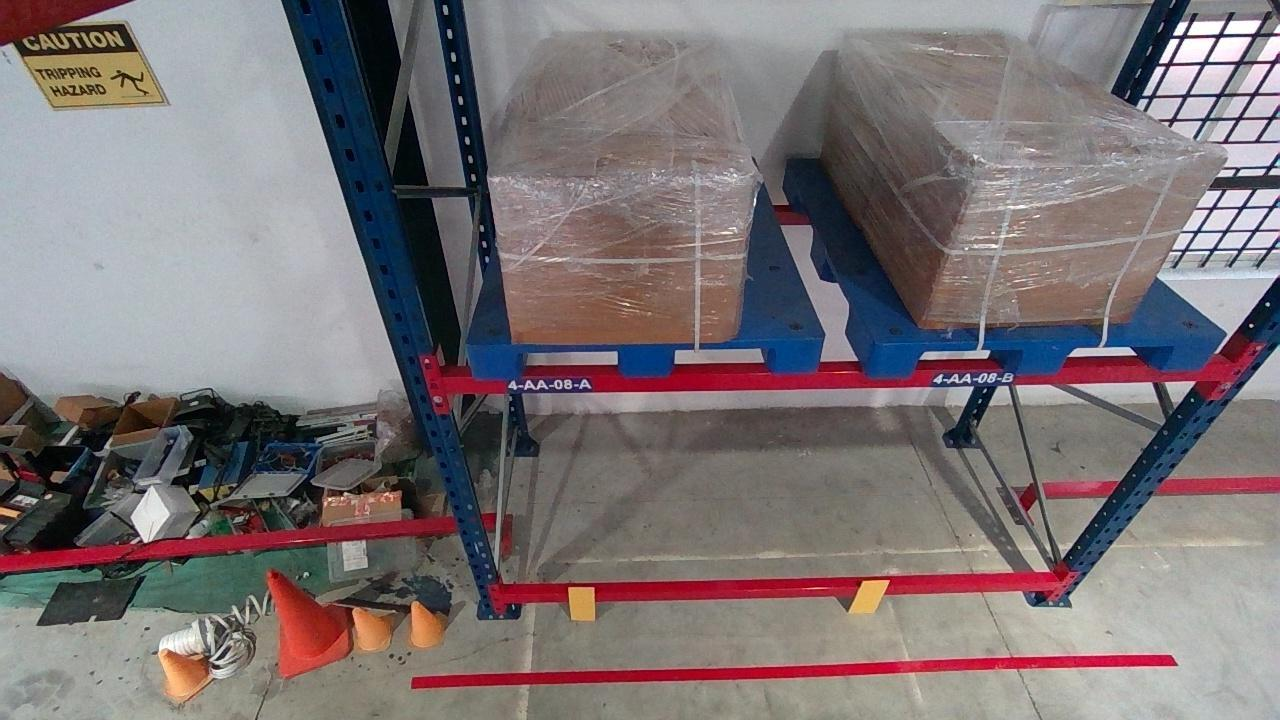h_rack: (444, 362, 1231, 390), (503, 577, 1061, 603)
orange_strip: (848, 579, 890, 612), (568, 587, 595, 620)
red_line: (408, 653, 1176, 687)
small_pallet: (464, 340, 820, 375), (868, 338, 1216, 372)
